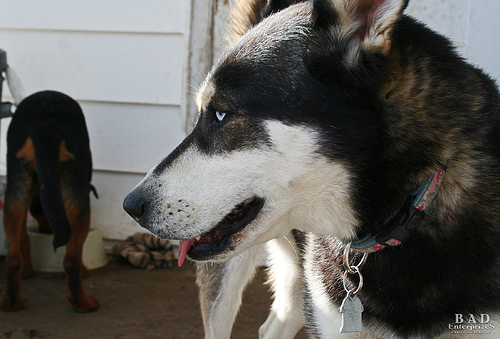dog: (121, 0, 499, 338)
